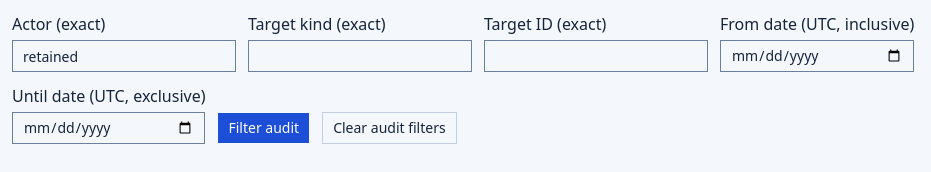
Test: audit trail › rejects reversed dates without discarding form values or submitting
The image size is (931, 172).
Type "2026-10-18" into the date field labelled "From date (UTC, inclusive)".
click(817, 56); type("2026-10-18")  # box top-left (720, 40), bottom-right (914, 72)
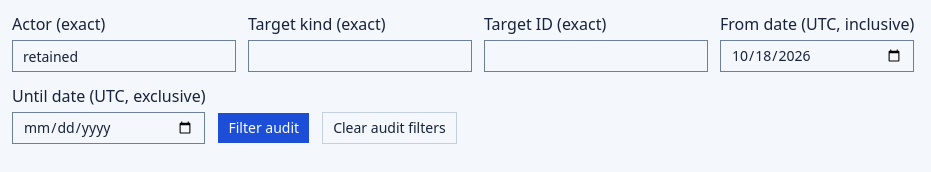
Type "2026-10-17" into the date field labelled "Until date (UTC, exclusive)".
click(109, 128); type("2026-10-17")  # box top-left (12, 112), bottom-right (206, 144)
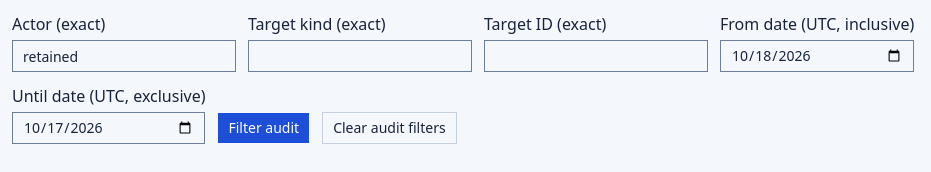
Click the button "Filter audit".
click(264, 128)  # box top-left (218, 112), bottom-right (310, 144)
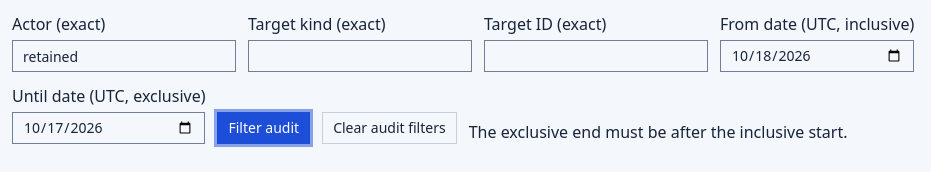
Expected: the field labelled "Actor (exact)" holds "retained", top-left (12, 40), bottom-right (236, 72)
Result: the message shows "exclusive end" at top-left (469, 121), bottom-right (848, 143)
